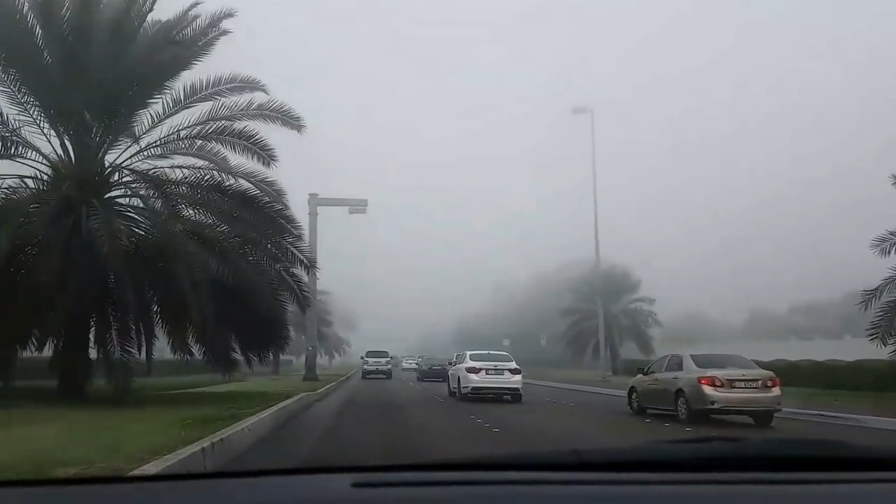car: (626, 350, 782, 426), (447, 350, 523, 402), (359, 350, 393, 380), (446, 351, 483, 378), (416, 356, 451, 381), (401, 356, 420, 371), (386, 354, 399, 369)
